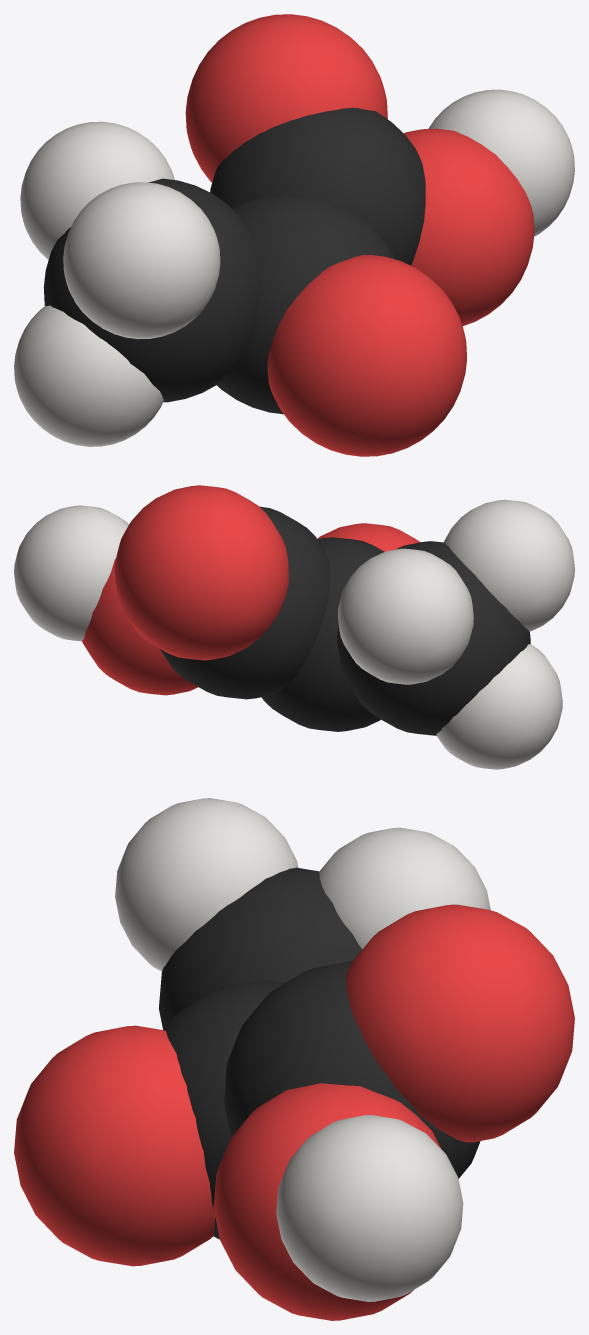
The picture shows the model from 3 angles, top to bottom: view 1: azimuth 30°, elevation 25°; view 2: azimuth 150°, elevation 25°; view 3: azimuth 270°, elevation 25°; orthographic projection. The views are drawn at different scales.
Visible parts, largest first — view 1: C3H4O3; view 2: C3H4O3; view 3: C3H4O3.
Boxes of the visible parts, x1,y1,x2,y2 form: C3H4O3: (14, 14, 574, 456); C3H4O3: (14, 485, 574, 769); C3H4O3: (14, 798, 574, 1320).
Size of the model in its own units: 5.91 by 3.05 by 4.19.
